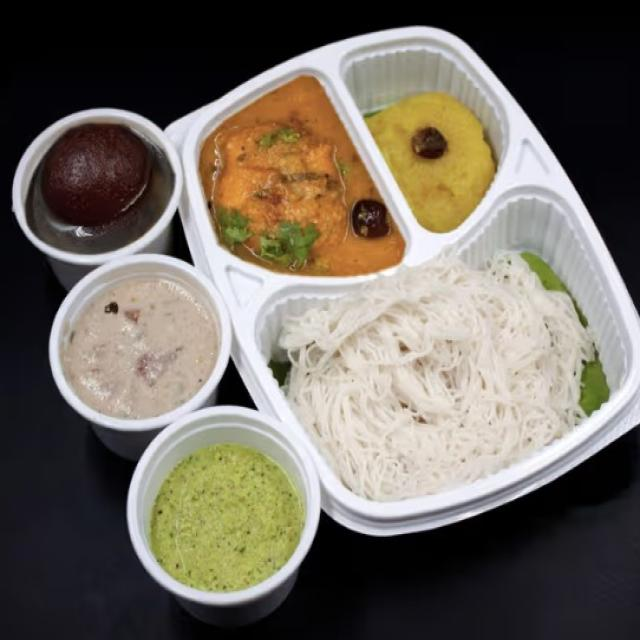CHICKEN FRY: (201, 72, 409, 273)
GREEN CHUTNEY: (152, 447, 305, 590)
IDIYAPPAM: (279, 246, 600, 497)
SWEET: (27, 119, 178, 251), (365, 87, 495, 230)
WHITE CHUTNEY: (61, 272, 217, 414)
